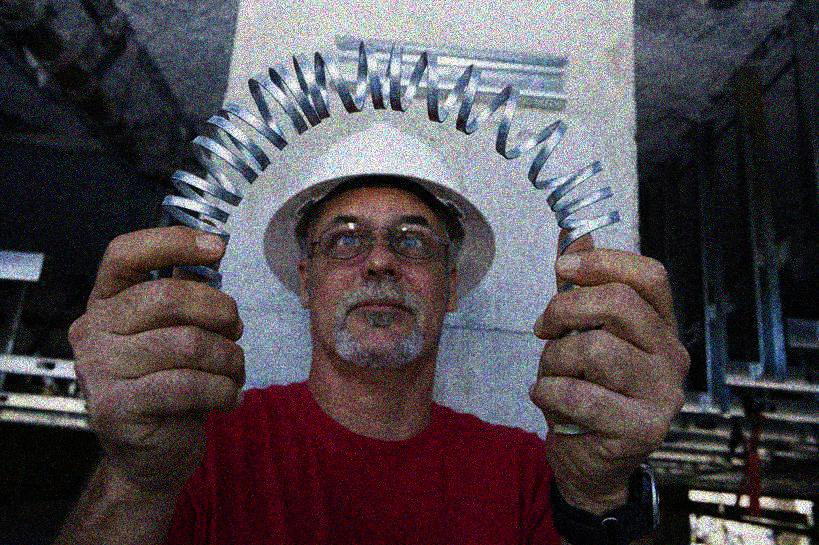helmet: (259, 120, 498, 365)
